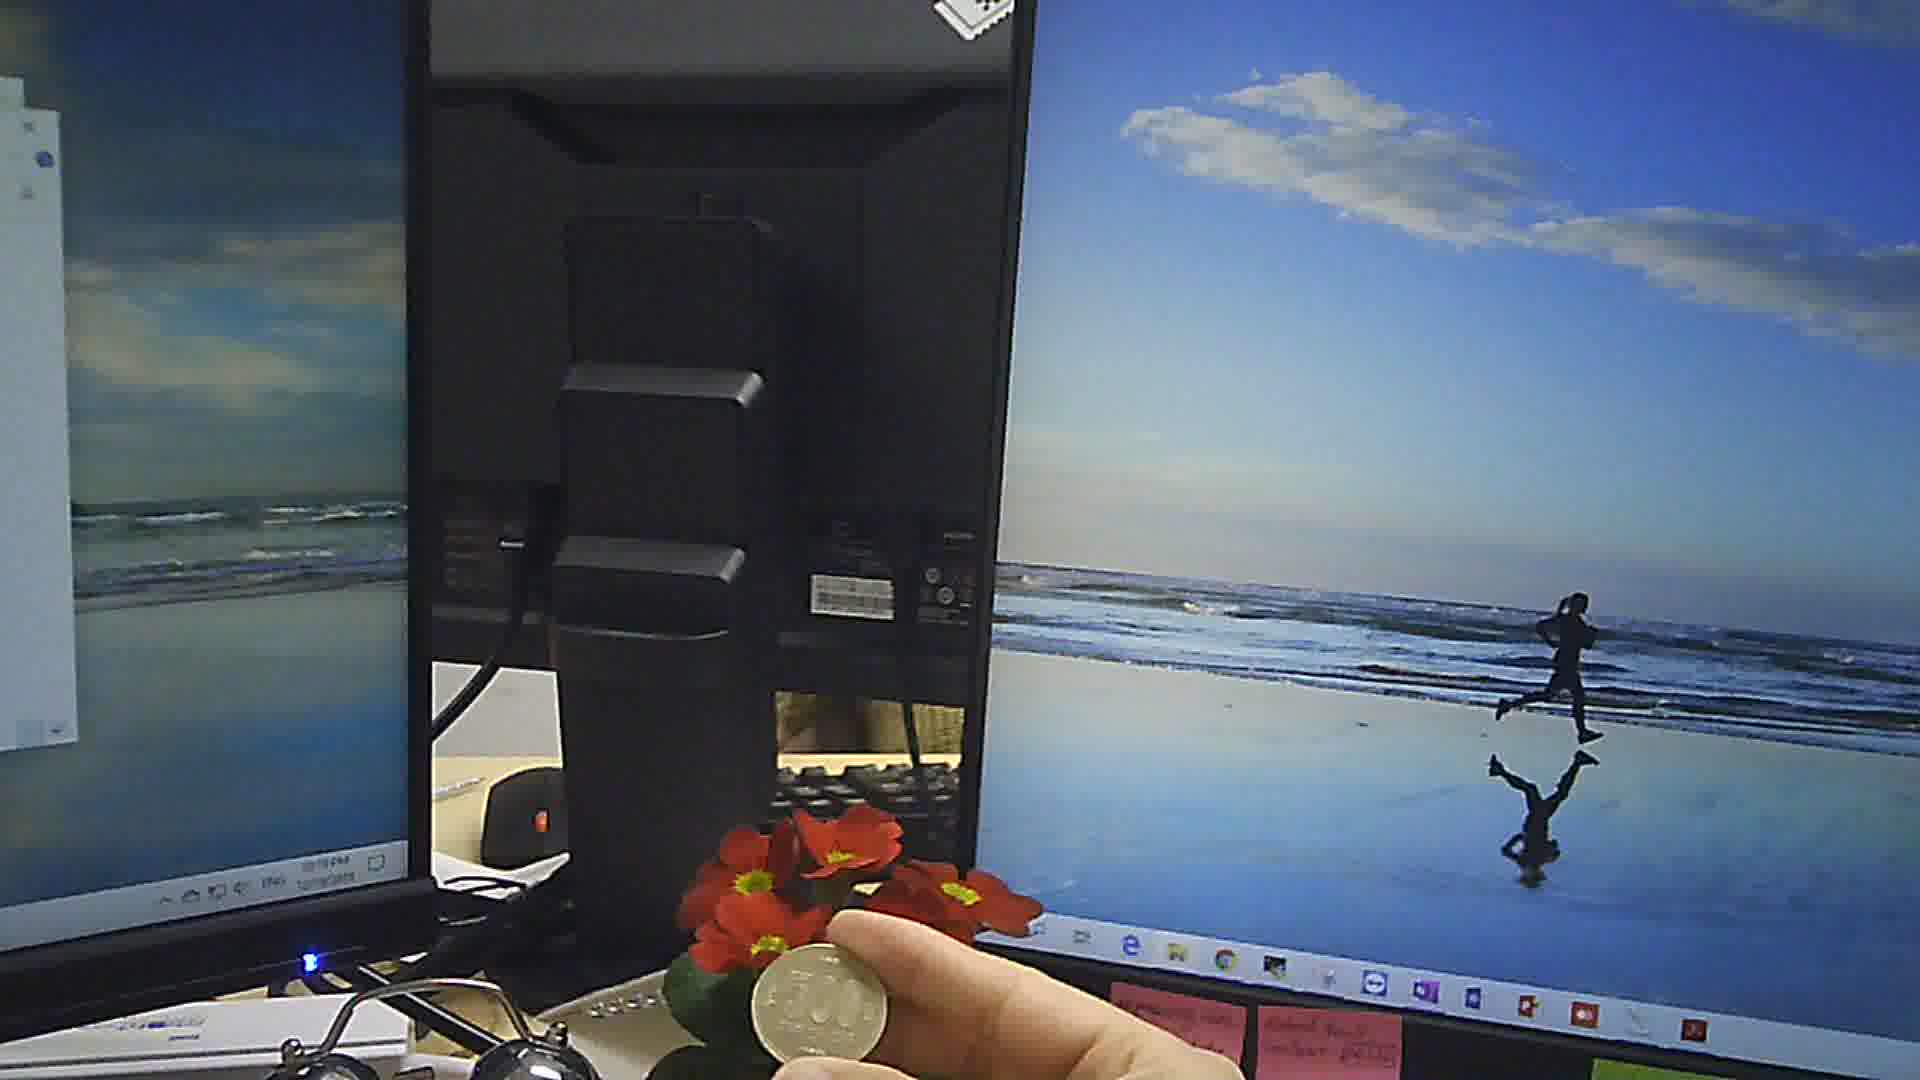500 Yen: (746, 939, 890, 1065)
